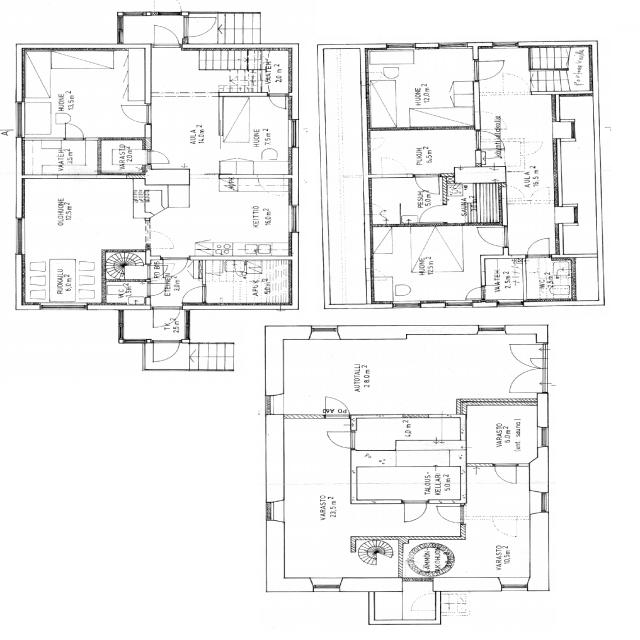door: (506, 367, 542, 393), (183, 13, 217, 40), (508, 343, 544, 368), (117, 102, 153, 125), (473, 58, 505, 82), (475, 224, 507, 248), (399, 499, 429, 524), (375, 156, 409, 178), (320, 394, 351, 418), (149, 23, 180, 47), (159, 257, 192, 279), (502, 72, 532, 95), (150, 340, 180, 363), (146, 227, 177, 249), (152, 306, 182, 327), (434, 503, 463, 524), (526, 184, 556, 204), (524, 236, 550, 258), (324, 429, 354, 448), (418, 204, 446, 224), (492, 464, 518, 484), (524, 347, 547, 369), (144, 148, 172, 166), (413, 174, 439, 193), (180, 285, 207, 303), (61, 122, 86, 141), (154, 0, 183, 16), (520, 139, 544, 157), (266, 94, 289, 110), (462, 285, 485, 300), (504, 184, 525, 200), (146, 281, 166, 297), (370, 268, 388, 280)
window: (12, 99, 28, 139), (12, 216, 28, 256), (286, 202, 300, 235), (37, 302, 87, 311), (286, 117, 300, 149), (536, 425, 551, 448), (348, 470, 359, 500), (475, 324, 507, 334), (308, 324, 338, 334), (491, 40, 518, 49), (384, 44, 414, 52), (438, 41, 464, 50), (495, 299, 523, 307), (477, 254, 486, 276), (392, 302, 420, 309), (414, 42, 442, 49), (114, 16, 126, 30)
zone: (281, 335, 524, 414), (150, 181, 295, 259), (351, 416, 464, 504), (366, 48, 476, 129), (41, 53, 139, 138), (373, 225, 476, 301), (219, 94, 292, 174), (149, 94, 221, 174), (368, 128, 478, 174), (464, 404, 542, 464), (147, 50, 245, 95), (23, 258, 100, 306), (368, 176, 440, 225), (202, 262, 282, 306), (22, 138, 98, 177), (444, 182, 503, 224), (524, 256, 572, 300), (124, 307, 188, 340), (482, 256, 524, 302), (96, 138, 147, 175), (154, 256, 200, 292), (258, 49, 291, 95), (51, 50, 117, 71), (103, 280, 150, 307), (371, 274, 392, 302)
